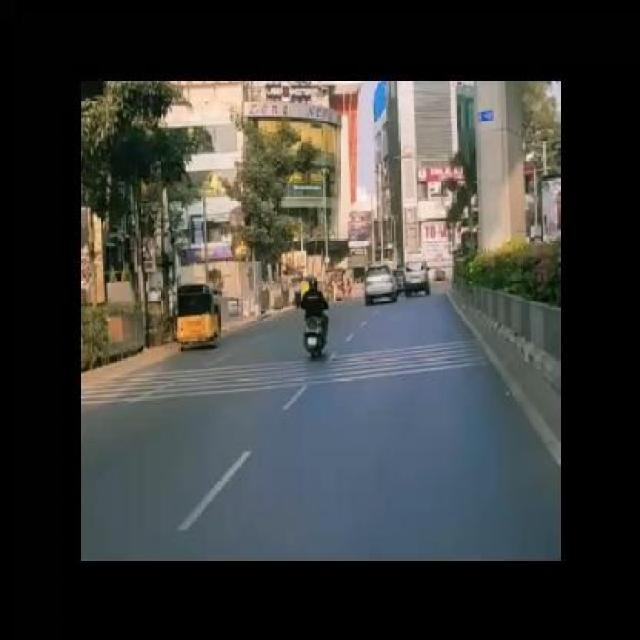car: (365, 266, 403, 306), (400, 262, 431, 295)
motorbike: (294, 274, 329, 360)
